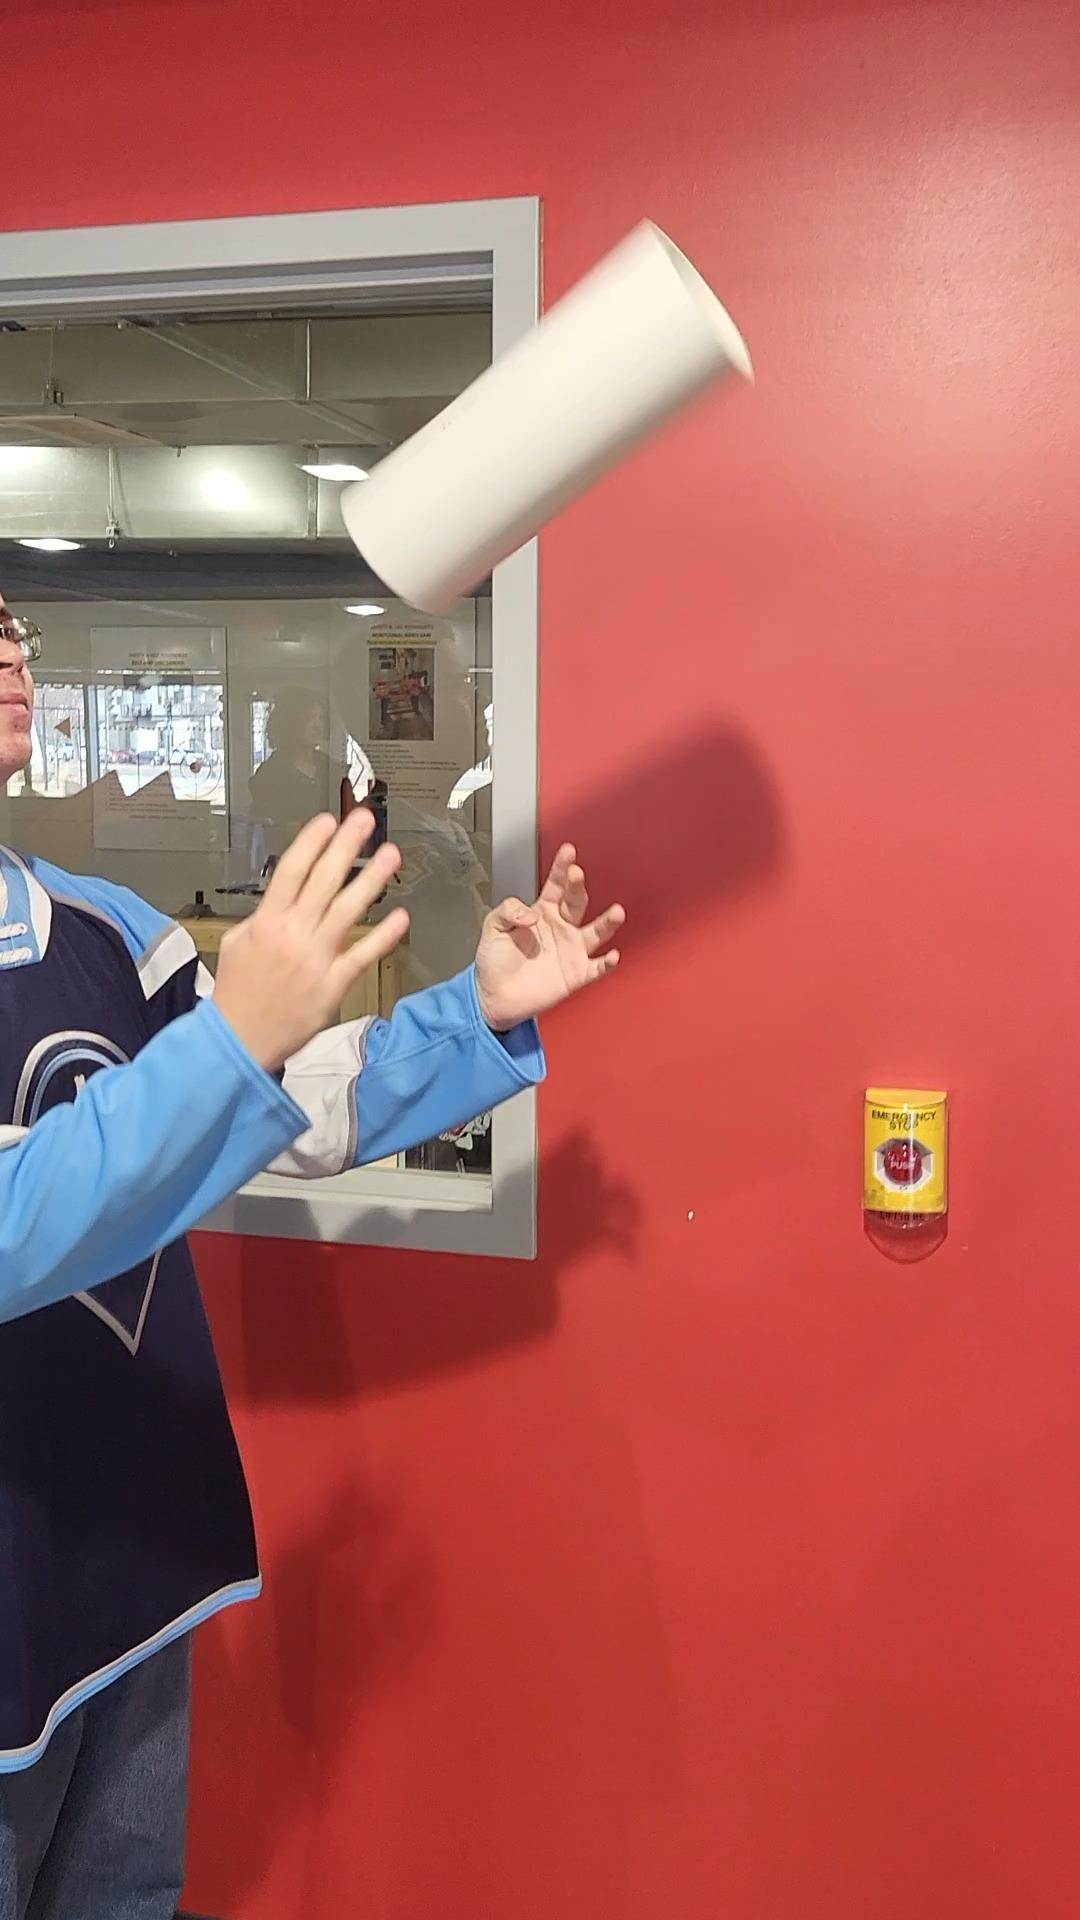coral: (340, 218, 764, 624)
